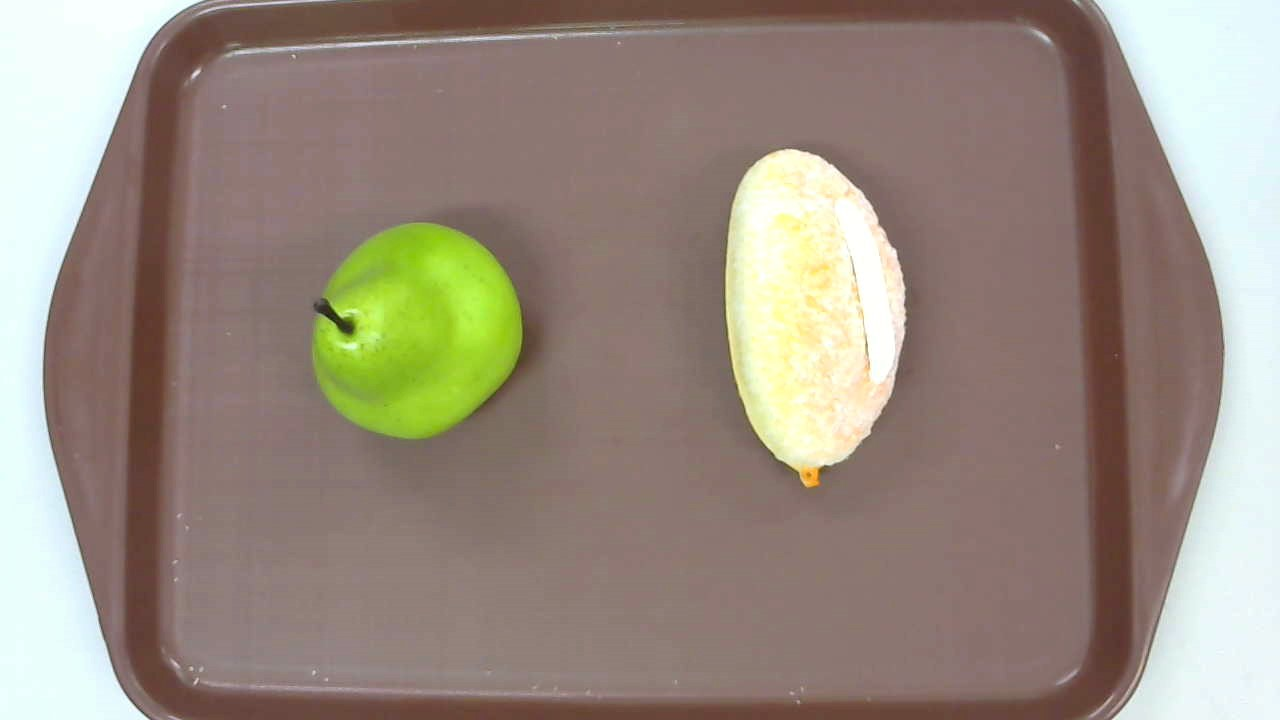coconut: (724, 148, 906, 489)
green pear: (311, 223, 523, 440)
